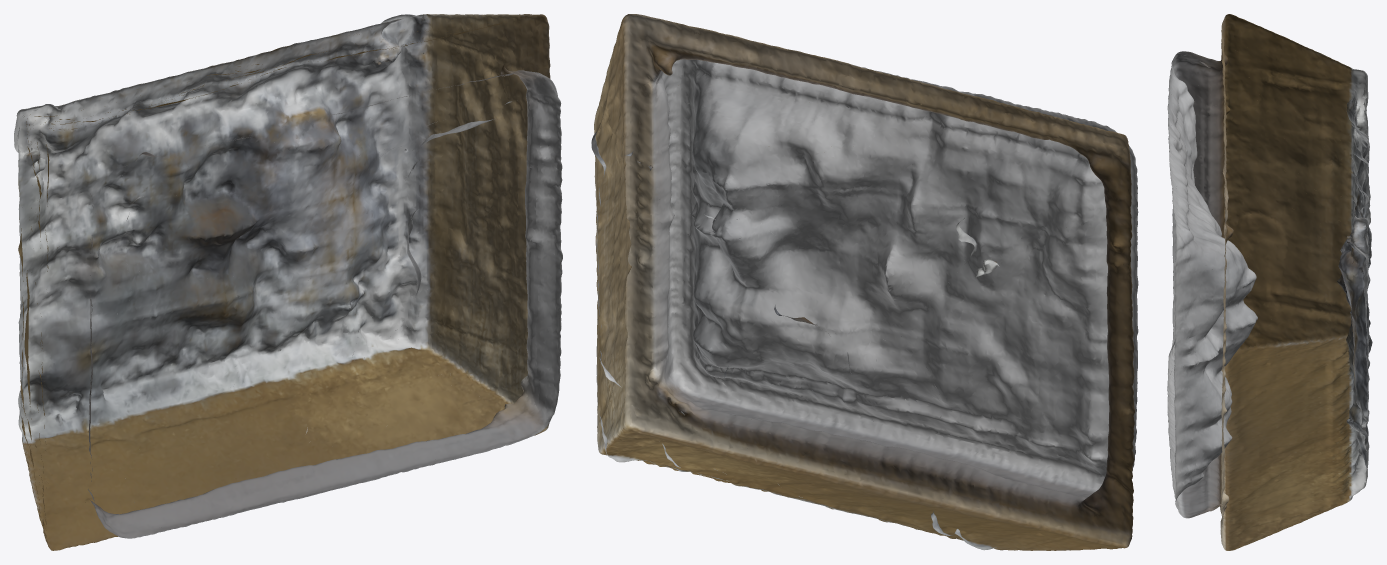
File: soap.glb
The picture shows the model from 3 angles, left to right: view 1: azimuth 30°, elevation 25°; view 2: azimuth 150°, elevation 25°; view 3: azimuth 270°, elevation 25°; orthographic projection. The views are drawn at different scales.
Size of the model in its own units: 1 by 0.793 by 0.4245.
